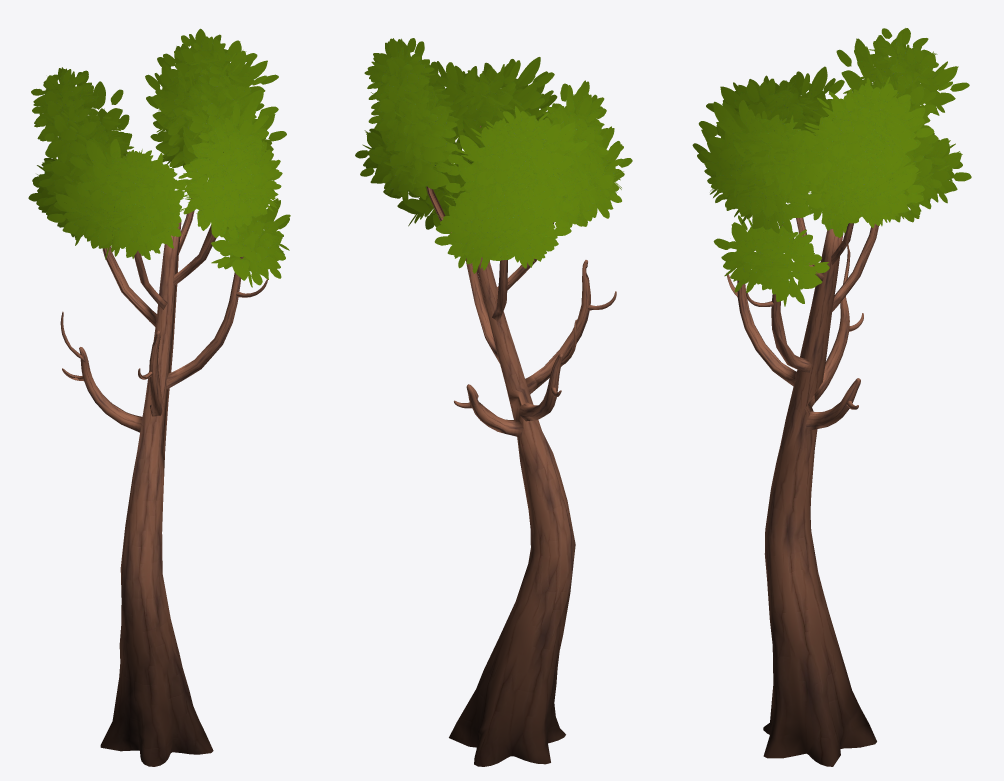
The model's file is common-tree-4.glb.
3 renders of one model, left to right at view 1: azimuth 30°, elevation 25°; view 2: azimuth 150°, elevation 25°; view 3: azimuth 270°, elevation 25°, orthographic. The views are drawn at different scales.
Parts seen in each view (by area): view 1: CommonTree_4; view 2: CommonTree_4; view 3: CommonTree_4.
Part boxes in pixels (bbox=[...]): CommonTree_4: bbox=[28, 28, 290, 766]; CommonTree_4: bbox=[355, 38, 632, 766]; CommonTree_4: bbox=[692, 28, 971, 766].
Size of the model in its own units: 3.83 by 9.44 by 3.76.
Materials: 2 (2 with a texture image).
